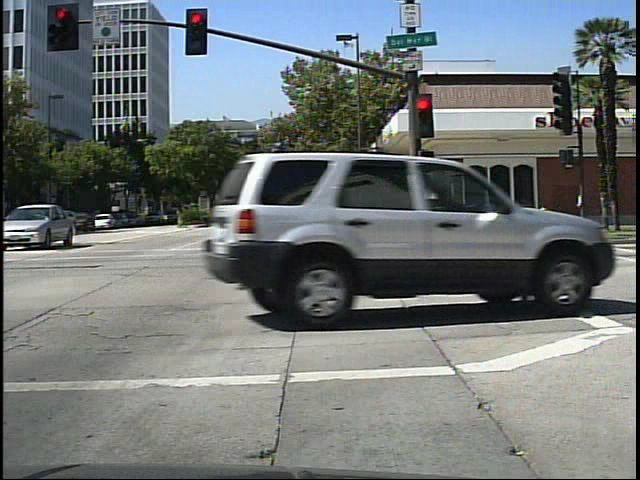person: (269, 205, 282, 223)
